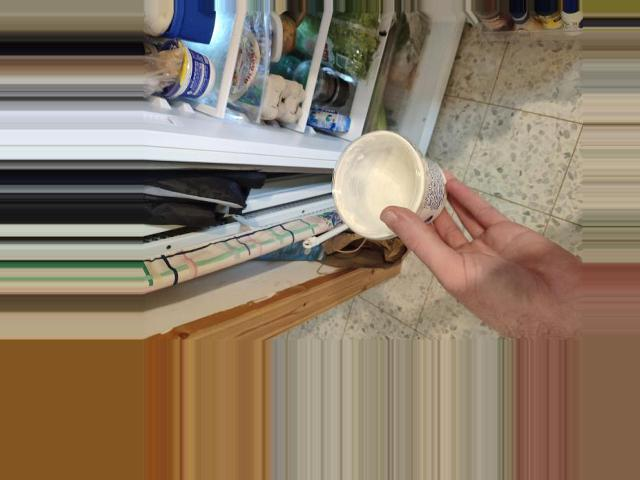cotage: (333, 149, 453, 247)
